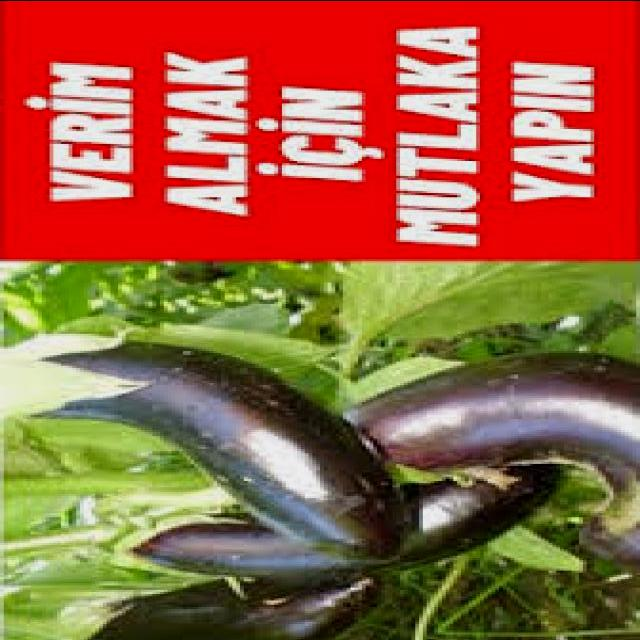eggplant: (7, 330, 407, 544), (115, 464, 549, 579), (352, 355, 630, 496)
